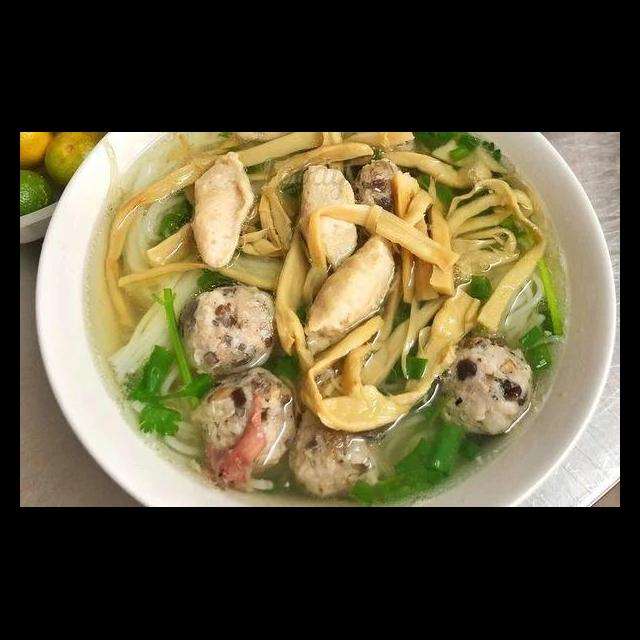bun: (107, 152, 210, 388), (128, 392, 205, 463), (489, 264, 553, 348)
vien moc: (187, 364, 304, 486), (427, 328, 540, 444), (172, 284, 295, 382), (284, 398, 388, 502)
